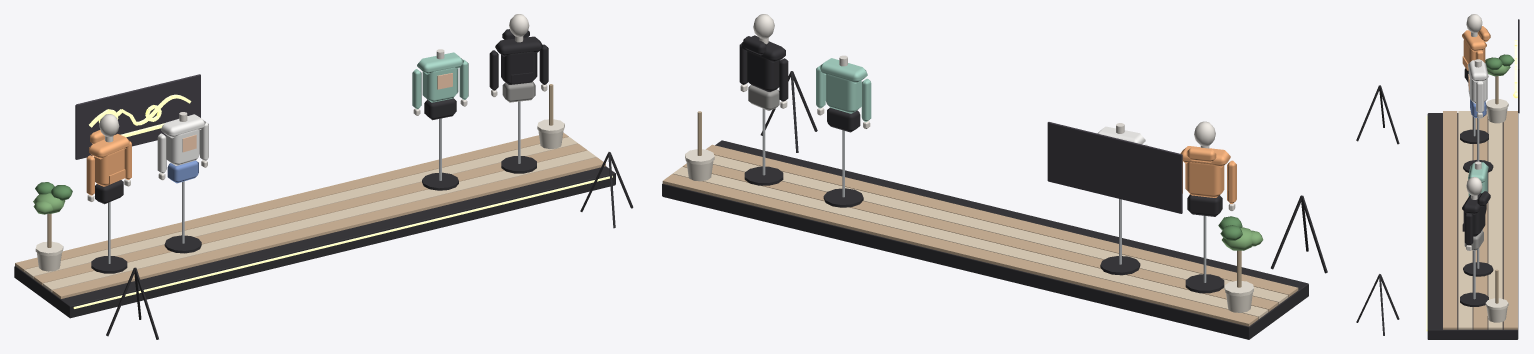
Rendered from einrichtung_showroom_buehne.glb.
3 renders of one model, left to right at view 1: azimuth 30°, elevation 25°; view 2: azimuth 150°, elevation 25°; view 3: azimuth 270°, elevation 25°, orthographic. The views are drawn at different scales.
Parts seen in each view (by area): view 1: einrichtung_showroom_buehne; view 2: einrichtung_showroom_buehne; view 3: einrichtung_showroom_buehne.
Boxes of the visible parts, left/top/right/bottom form: einrichtung_showroom_buehne: left=14, top=14, right=633, bottom=339; einrichtung_showroom_buehne: left=662, top=14, right=1327, bottom=339; einrichtung_showroom_buehne: left=1356, top=14, right=1519, bottom=339.
Bounding box in the file's own units: 6.8 × 1.98 × 2.16.
